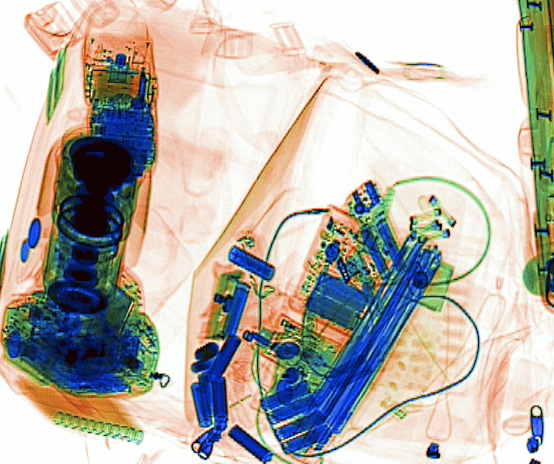powerbank: (255, 377, 330, 456)
